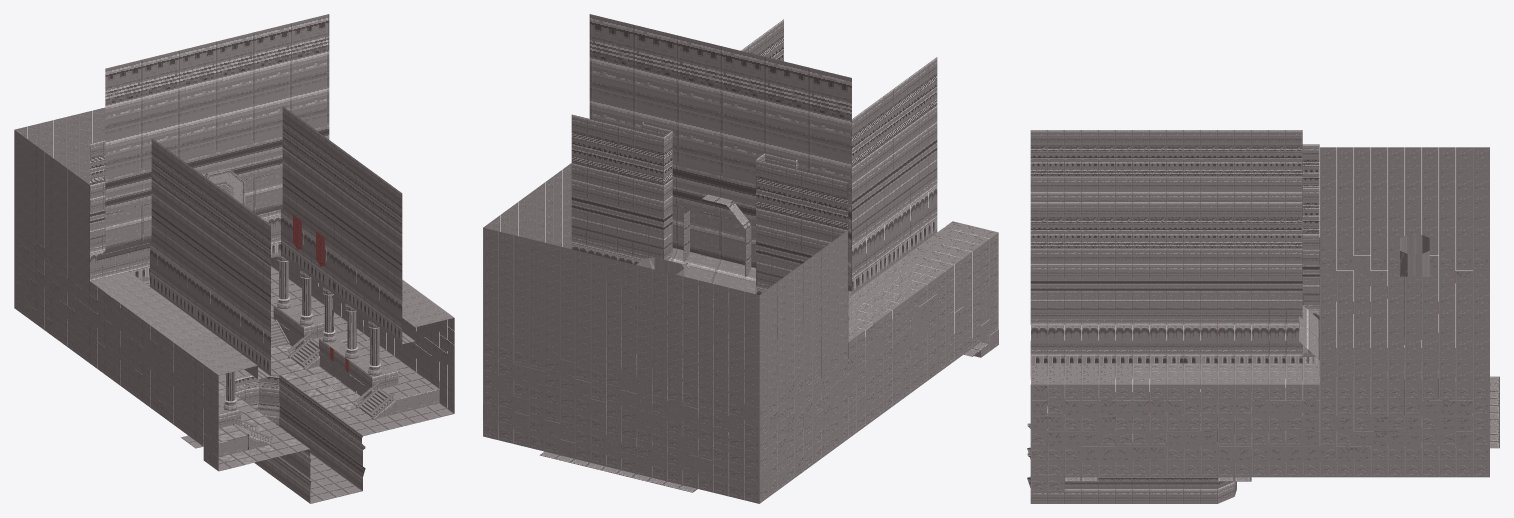
Rendered from pixel_temple (1).glb.
The picture shows the model from 3 angles, left to right: view 1: azimuth 30°, elevation 25°; view 2: azimuth 150°, elevation 25°; view 3: azimuth 270°, elevation 25°; orthographic projection. The views are drawn at different scales.
Visible parts, largest first — view 1: castle; view 2: castle; view 3: castle.
Boxes of the visible parts, x1,y1,x2,y2 form: castle: (14,14,454,503); castle: (483,14,998,503); castle: (1027,130,1499,503).
Bounding box in the file's own units: 3.66 × 5.12 × 5.3.
2 materials, 2 textured.
